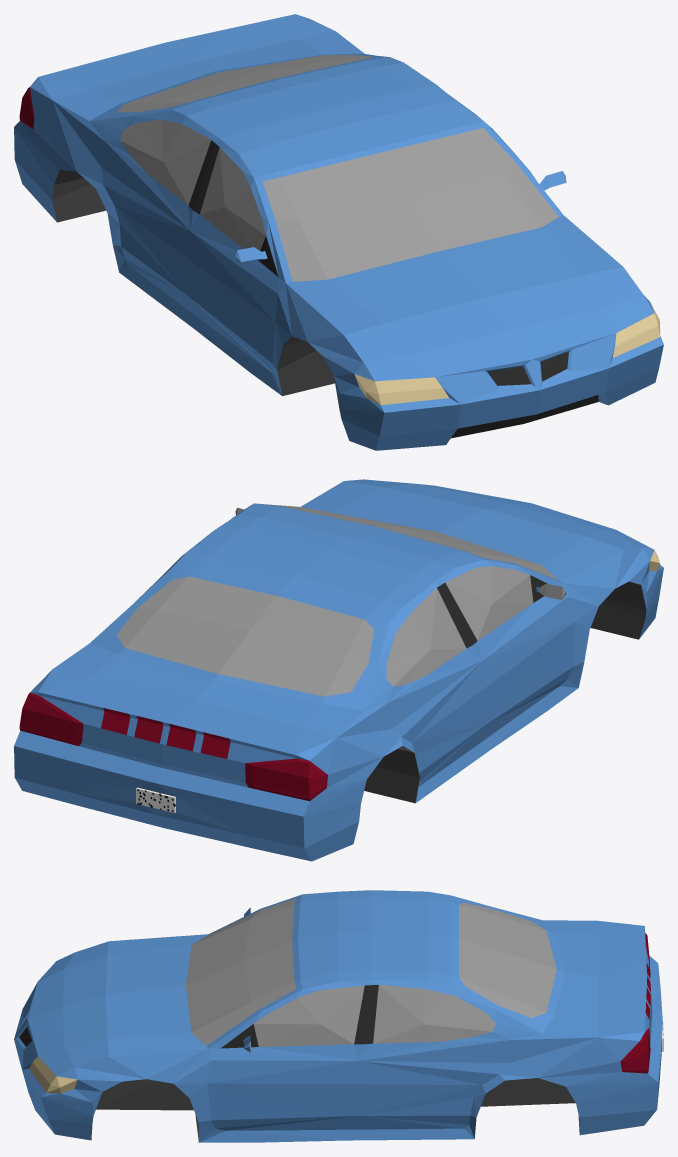
File: grand prix.fbx
3 renders of one model, top to bottom at view 1: azimuth 30°, elevation 25°; view 2: azimuth 150°, elevation 25°; view 3: azimuth 270°, elevation 25°, orthographic. The views are drawn at different scales.
Parts seen in each view (by area): view 1: grand prix; view 2: grand prix; view 3: grand prix.
Part boxes in pixels (bbox=[...]): grand prix: bbox=[14, 14, 663, 450]; grand prix: bbox=[14, 479, 663, 861]; grand prix: bbox=[14, 890, 663, 1142].
Size of the model in its own units: 3.12 by 1.6 by 6.29.
